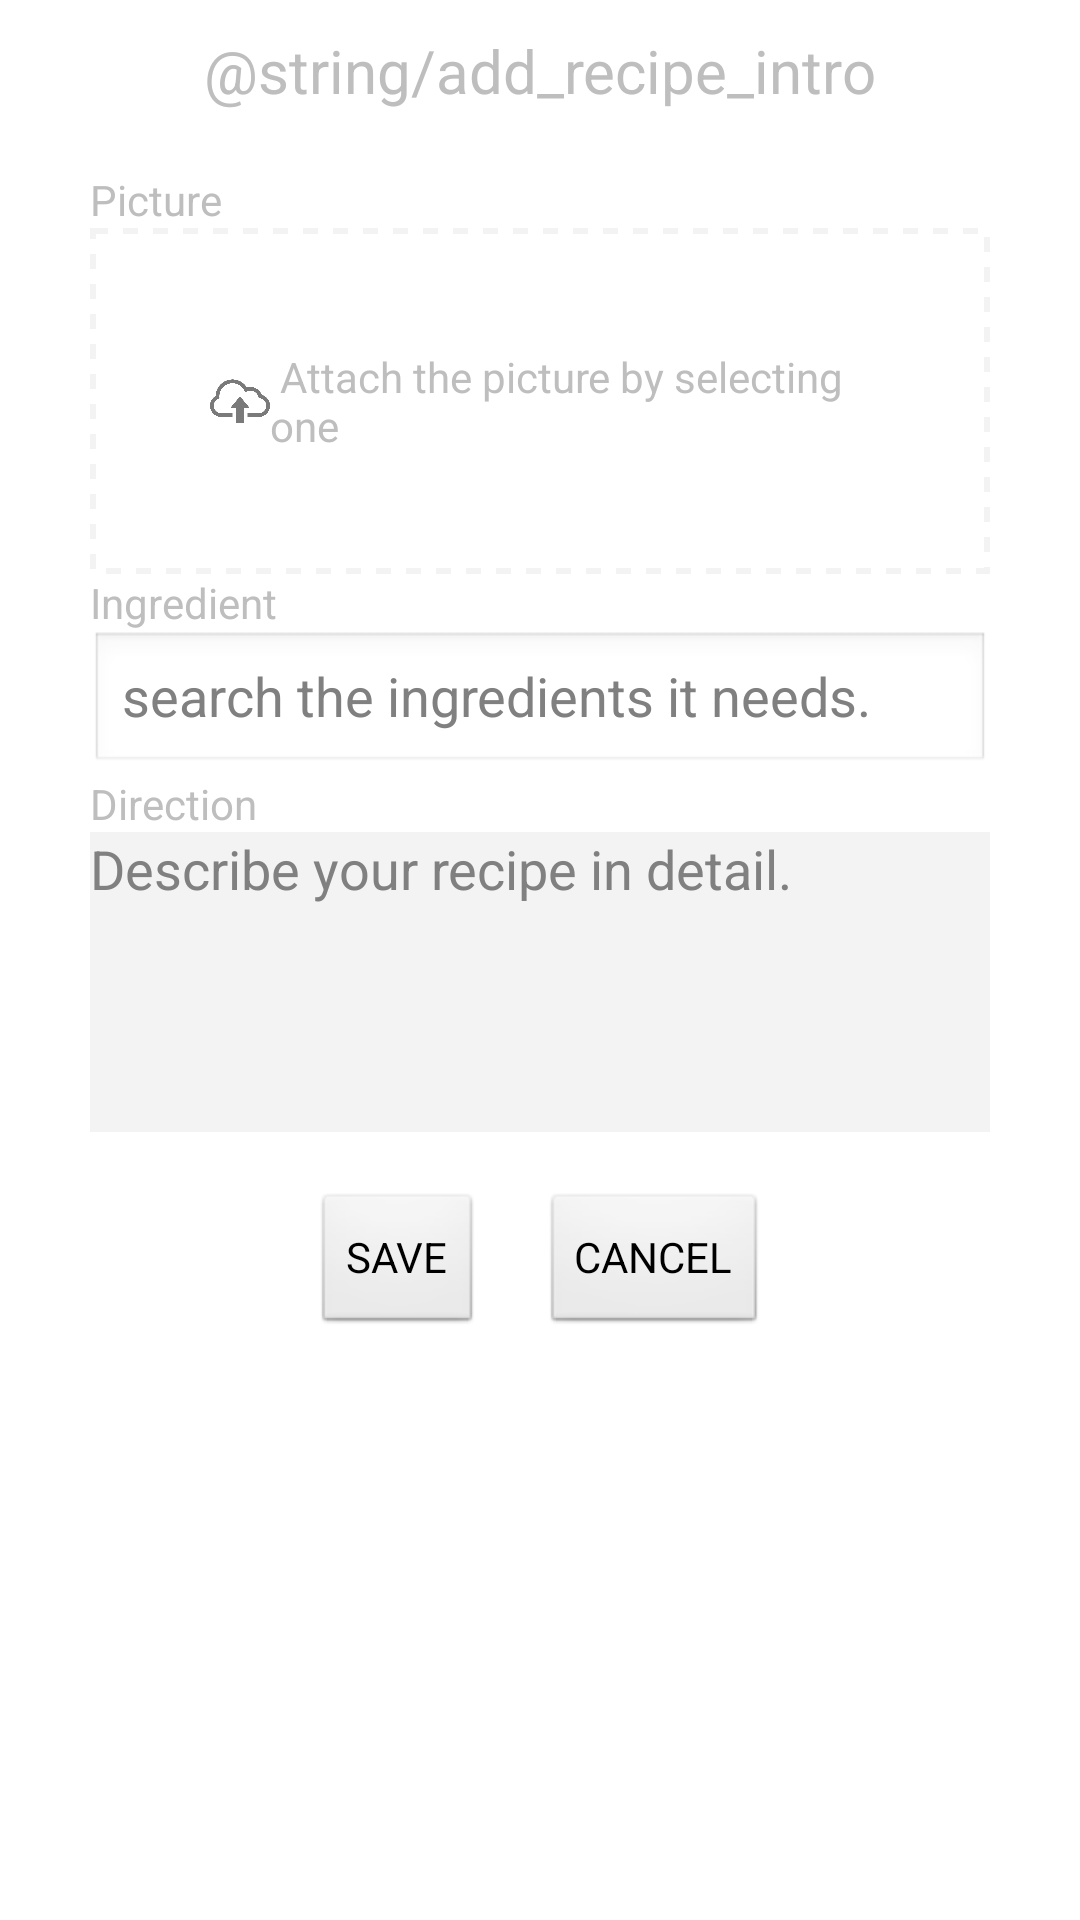

Icons on this 1080×1920 Android screen, each with its box as Rect(x1, y1, x2, y2):
upload: Rect(210, 379, 270, 423)
